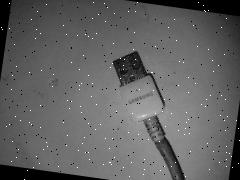electronic: (30, 0, 162, 143)
